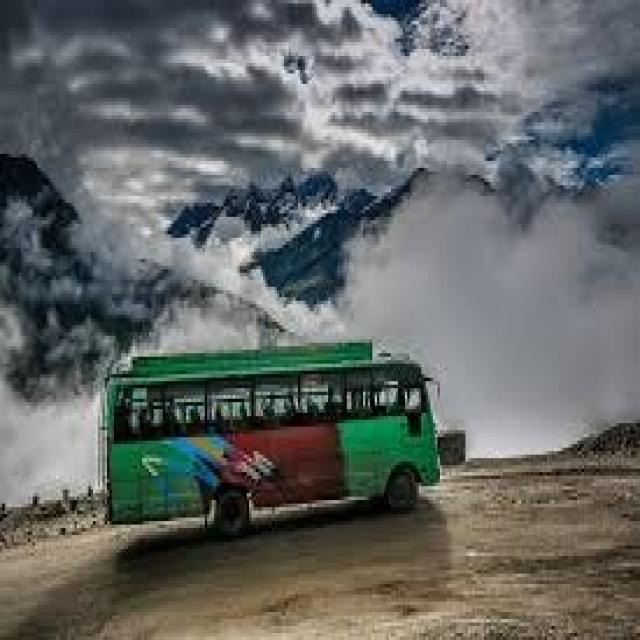bus: (94, 324, 459, 545)
